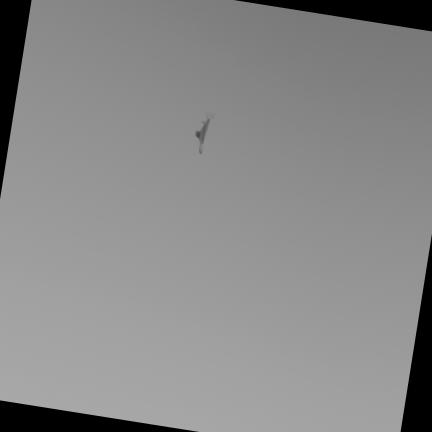Shahed: (195, 110, 215, 155)
